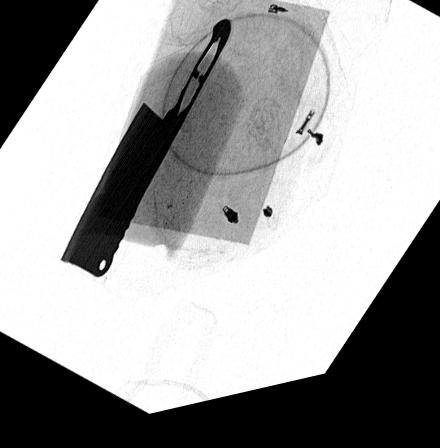Knife: (60, 28, 232, 281)
